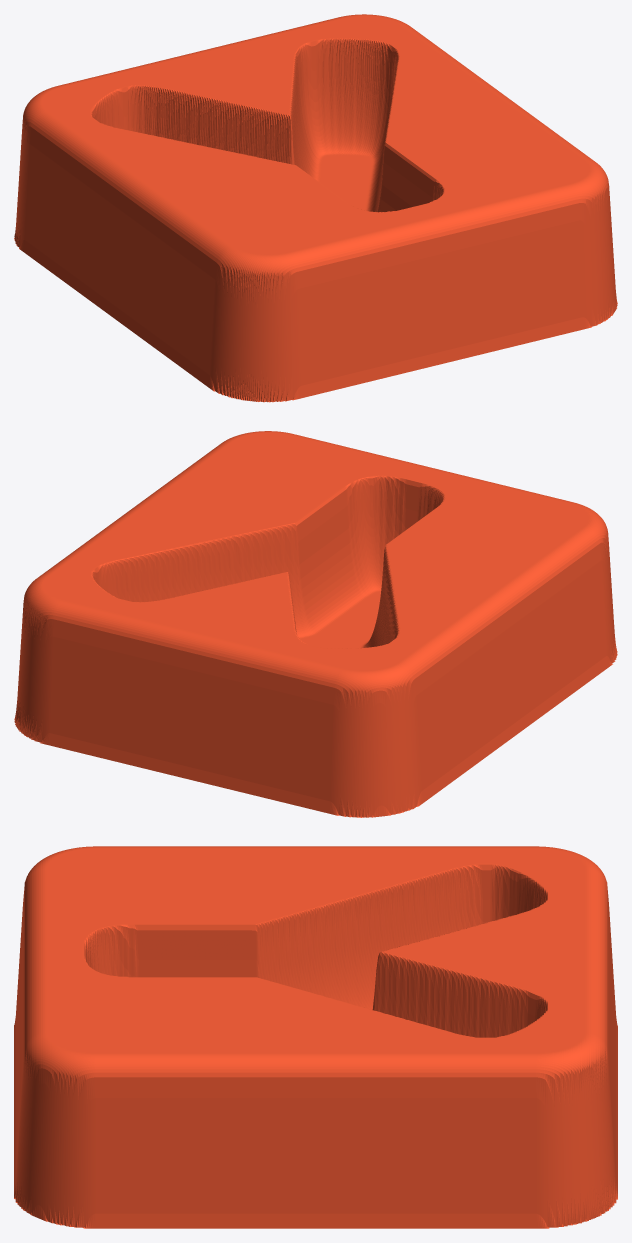
Rendered from mold.glb.
The picture shows the model from 3 angles, top to bottom: view 1: azimuth 30°, elevation 25°; view 2: azimuth 150°, elevation 25°; view 3: azimuth 270°, elevation 25°; orthographic projection. The views are drawn at different scales.
Visible parts, largest first — view 1: geometry_0; view 2: geometry_0; view 3: geometry_0.
Boxes of the visible parts, box(x1,y1,x2,y2) form: geometry_0: box(14, 14, 617, 402); geometry_0: box(14, 431, 617, 817); geometry_0: box(14, 846, 617, 1228).
Size of the model in its own units: 0.061 by 0.0197 by 0.067.
